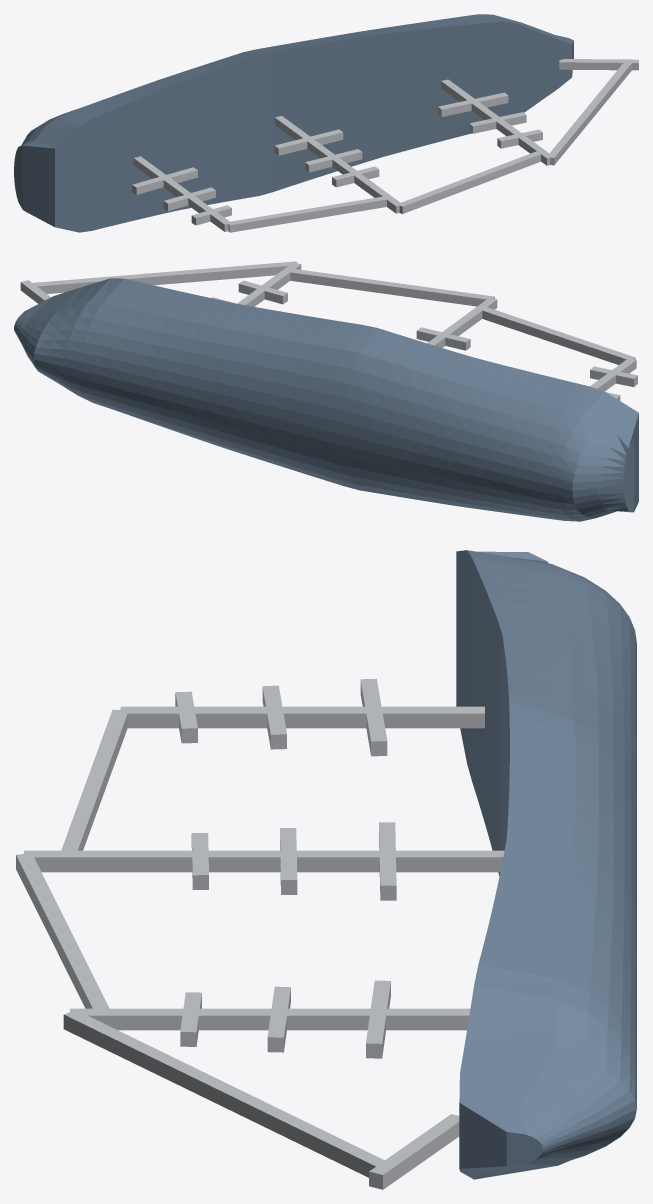
The model's file is loft-square-rigger-sheered.glb.
3 views of the same model, one above another, from view 1: azimuth 30°, elevation 25°; view 2: azimuth 150°, elevation 25°; view 3: azimuth 270°, elevation 25° (orthographic). The views are drawn at different scales.
Parts seen in each view (by area): view 1: loft-square-rigger-sheered; view 2: loft-square-rigger-sheered; view 3: loft-square-rigger-sheered.
Boxes of the visible parts, x1=… form: loft-square-rigger-sheered: x1=14, y1=14, x2=638, y2=232; loft-square-rigger-sheered: x1=14, y1=261, x2=638, y2=521; loft-square-rigger-sheered: x1=16, y1=550, x2=636, y2=1189.
Bounding box in the file's own units: 1.97 × 0.4598 × 0.9121.
